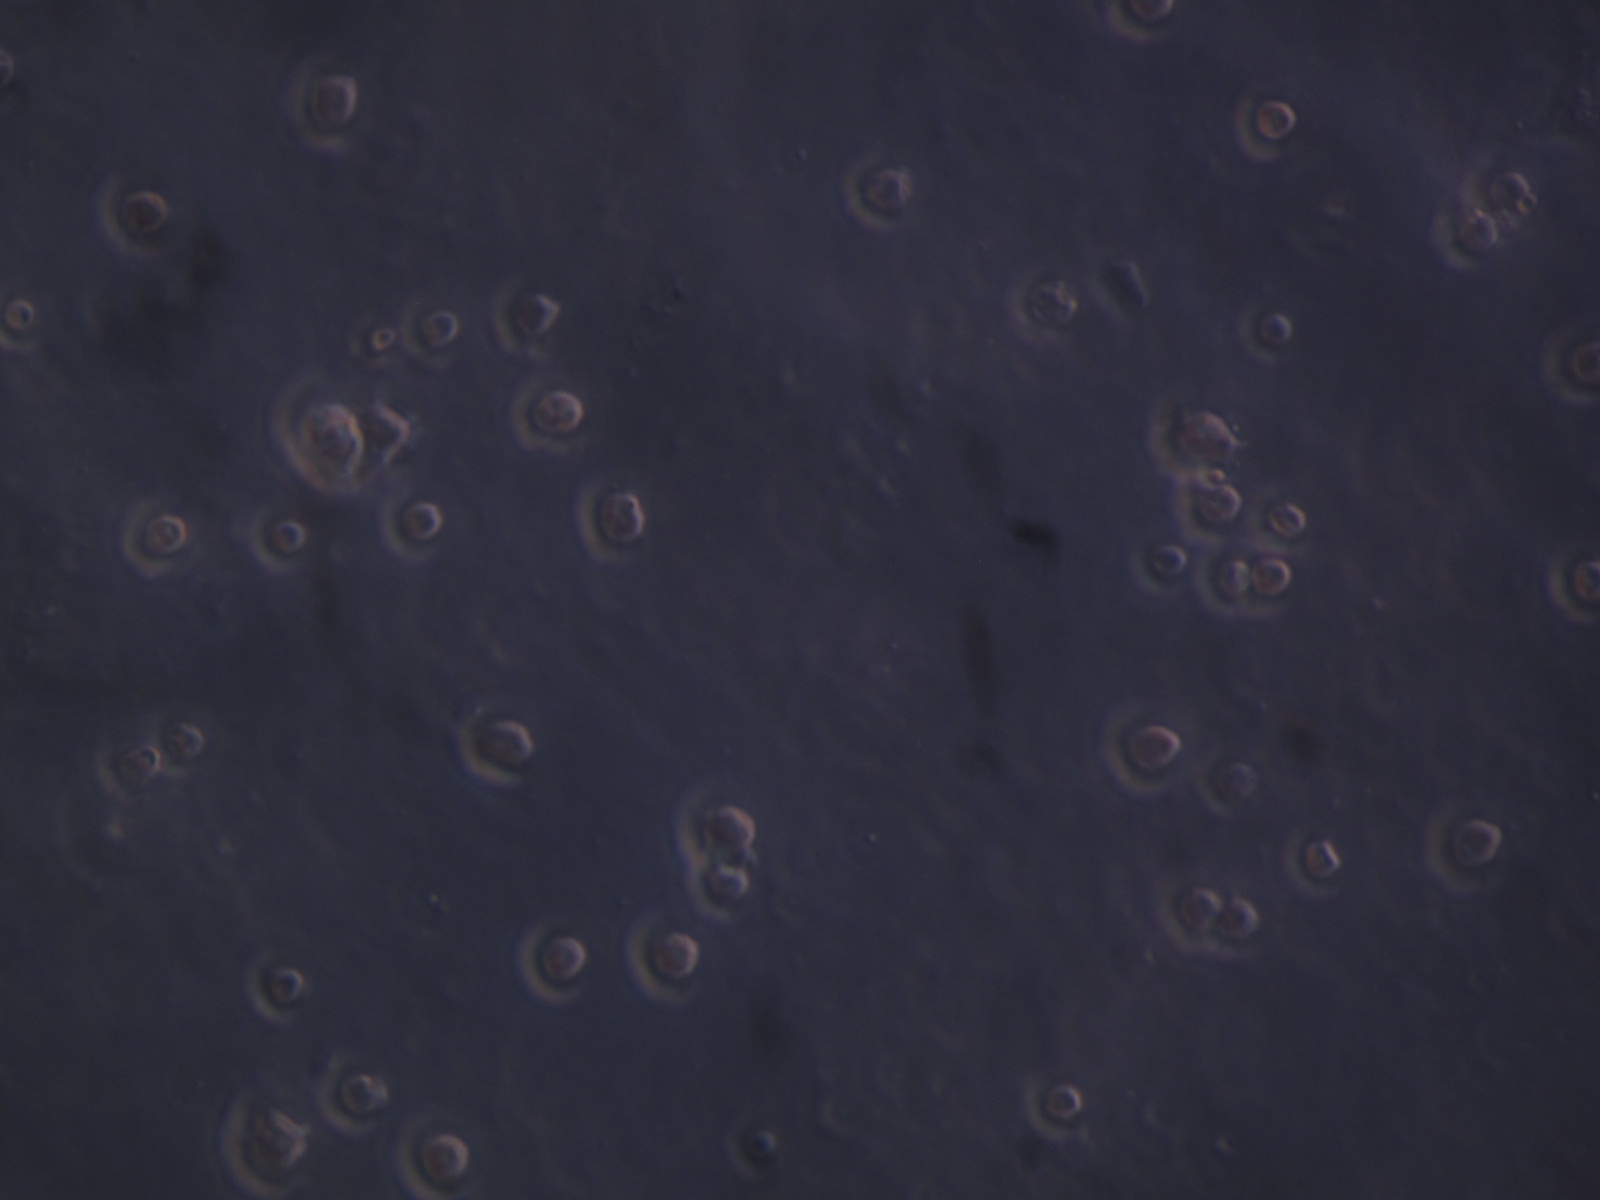hemo: (270, 371, 364, 495), (219, 1087, 309, 1197), (278, 50, 360, 158), (1099, 698, 1183, 798), (1148, 393, 1233, 482), (392, 1107, 472, 1199), (627, 904, 699, 1006), (671, 773, 755, 858), (1427, 800, 1502, 896), (488, 270, 558, 359), (96, 176, 173, 258), (459, 707, 535, 788), (1002, 265, 1078, 345), (511, 374, 588, 453), (518, 921, 587, 1007), (576, 478, 645, 563), (316, 1051, 387, 1134), (842, 153, 911, 234), (120, 493, 186, 577), (1537, 316, 1600, 403), (1431, 195, 1500, 270), (684, 855, 755, 926), (1249, 476, 1313, 553), (1547, 538, 1600, 632), (1159, 874, 1220, 954), (379, 487, 443, 562), (1233, 84, 1296, 161), (144, 701, 207, 776), (92, 734, 161, 802), (246, 945, 304, 1025), (404, 291, 464, 368), (1194, 537, 1249, 620), (1173, 480, 1242, 543), (1283, 824, 1340, 897), (1196, 746, 1260, 812), (247, 504, 307, 574), (1461, 153, 1527, 214), (1238, 299, 1296, 367), (1130, 536, 1191, 597), (1024, 1080, 1083, 1143), (1249, 539, 1294, 616), (1, 279, 45, 355), (1209, 895, 1260, 961), (1104, 1, 1174, 42)
